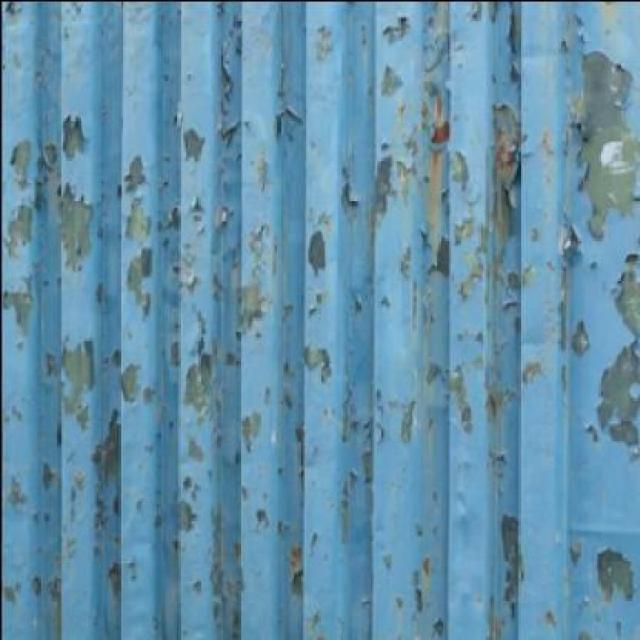Corrosion: (491, 123, 524, 178), (429, 125, 454, 150)
